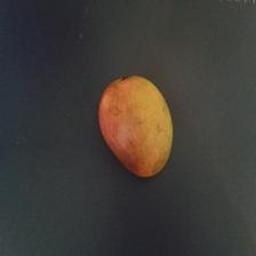Mango Semifresh: (97, 72, 194, 198)
